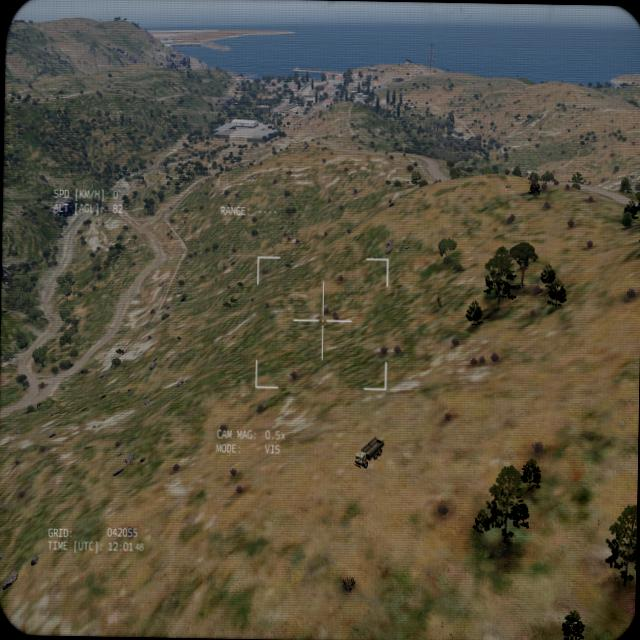truck: (352, 433, 383, 471)
